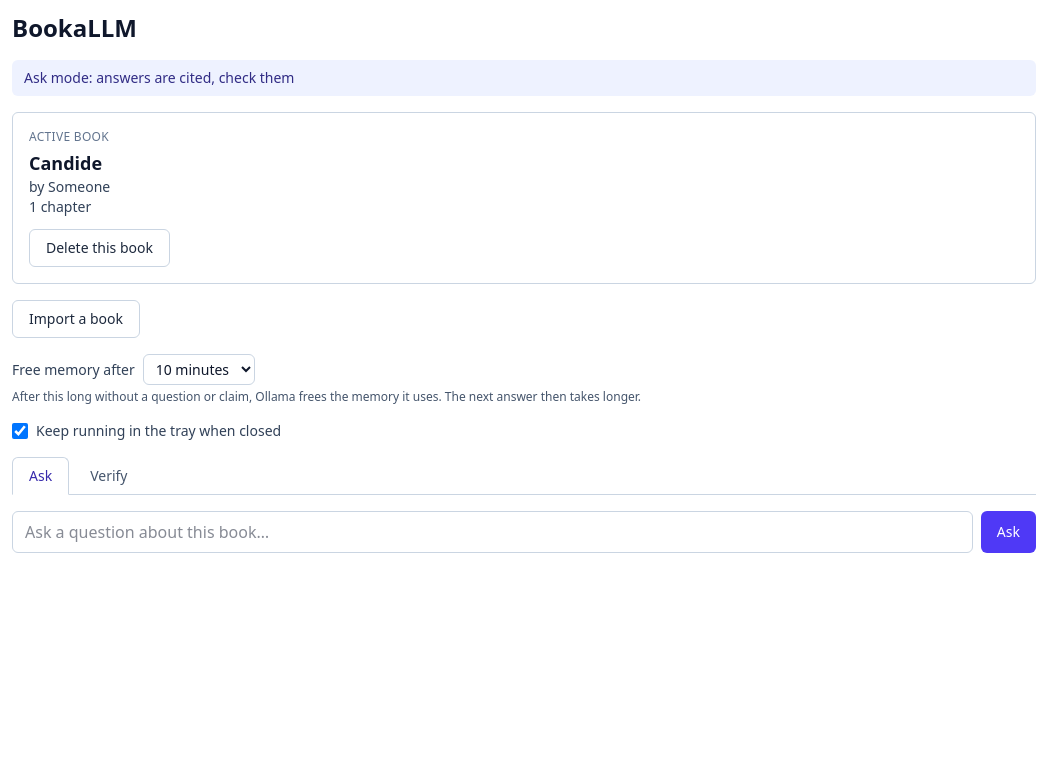
Test case: mode tabs › switches the line and the panel when Verify is chosen
What coordinates should you click on to do the following:
click the tab "Verify"
I would click on:
 (109, 476)
Its box is [73,457,144,495].
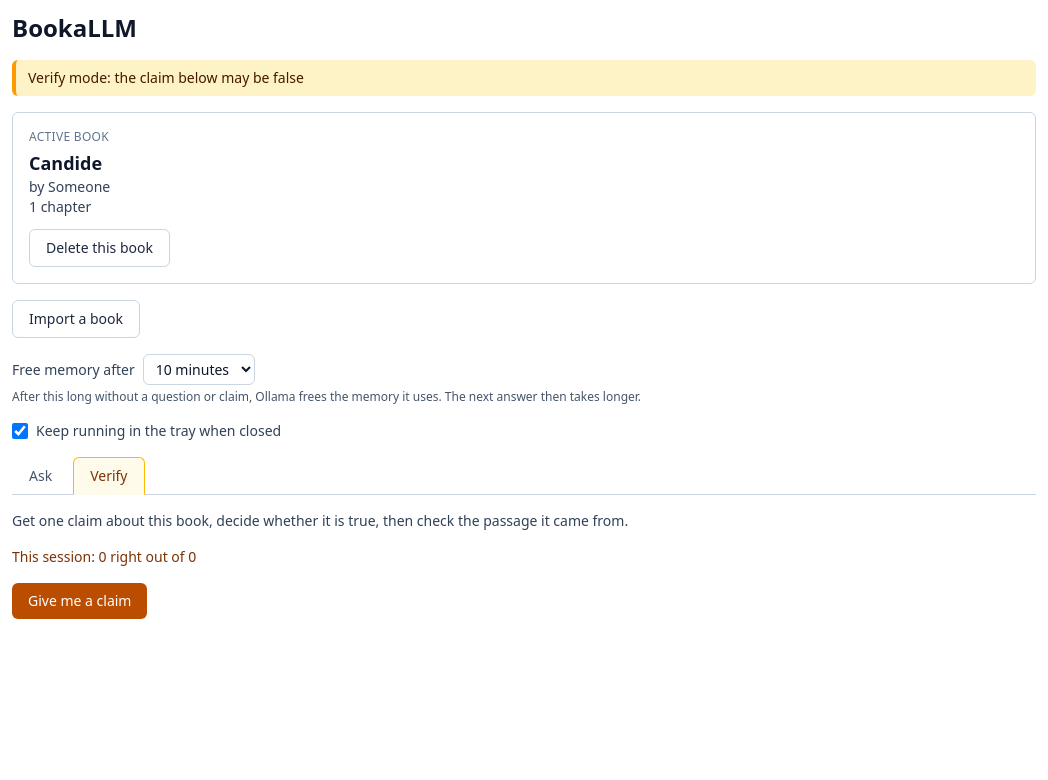
expect the field labelled "Your question" is not shown: met
expect the text "Verify mode: the claim below may be false" is shown: met, box [12,60,1036,96]
expect the button "Give me a claim" is shown: met, box [12,583,148,619]
